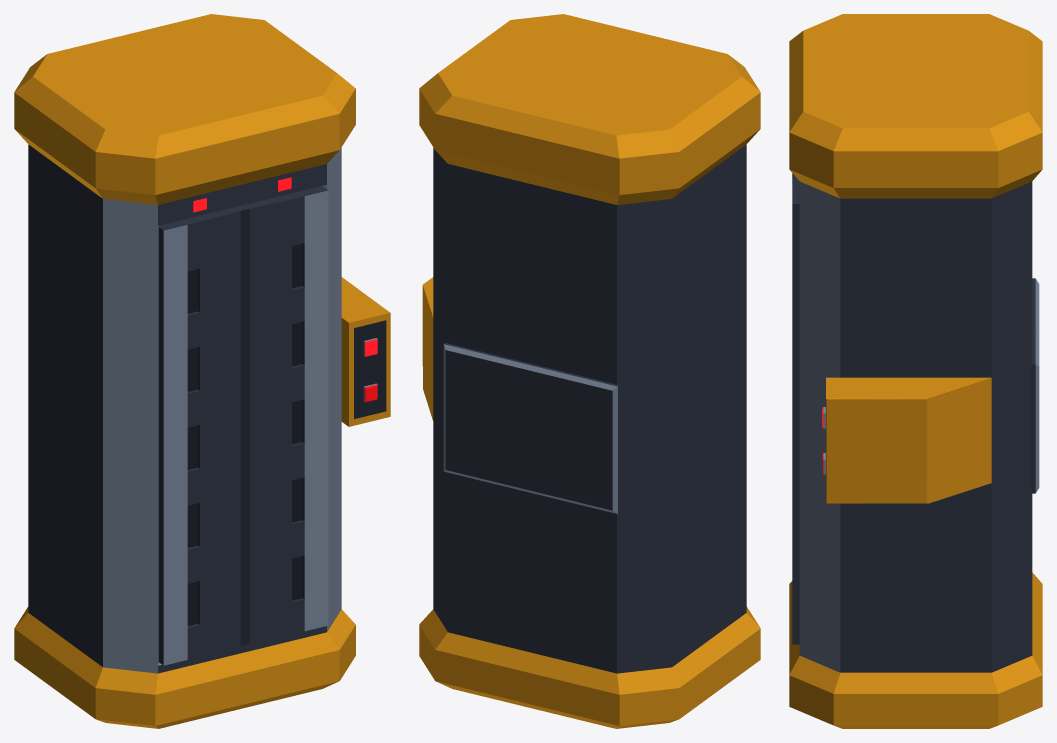
File: suit_storage_v3_locked.glb
The picture shows the model from 3 angles, left to right: view 1: azimuth 30°, elevation 25°; view 2: azimuth 150°, elevation 25°; view 3: azimuth 270°, elevation 25°; orthographic projection.
Visible parts, largest first — view 1: Suit_Storage_Shell, Suit_Storage_Door; view 2: Suit_Storage_Shell, Suit_Storage_Service_Hatch; view 3: Suit_Storage_Shell, Suit_Storage_Door, Suit_Storage_Service_Hatch.
Part boxes in pixels (x1,y1,x2,y2): Suit_Storage_Shell: (14,14,390,728); Suit_Storage_Door: (158,186,328,665); Suit_Storage_Shell: (419,14,760,728); Suit_Storage_Service_Hatch: (443,342,619,513); Suit_Storage_Shell: (789,14,1042,728); Suit_Storage_Door: (792,173,799,644); Suit_Storage_Service_Hatch: (1031,278,1039,493).
Size of the model in its own units: 1.17 by 2.28 by 0.872.
